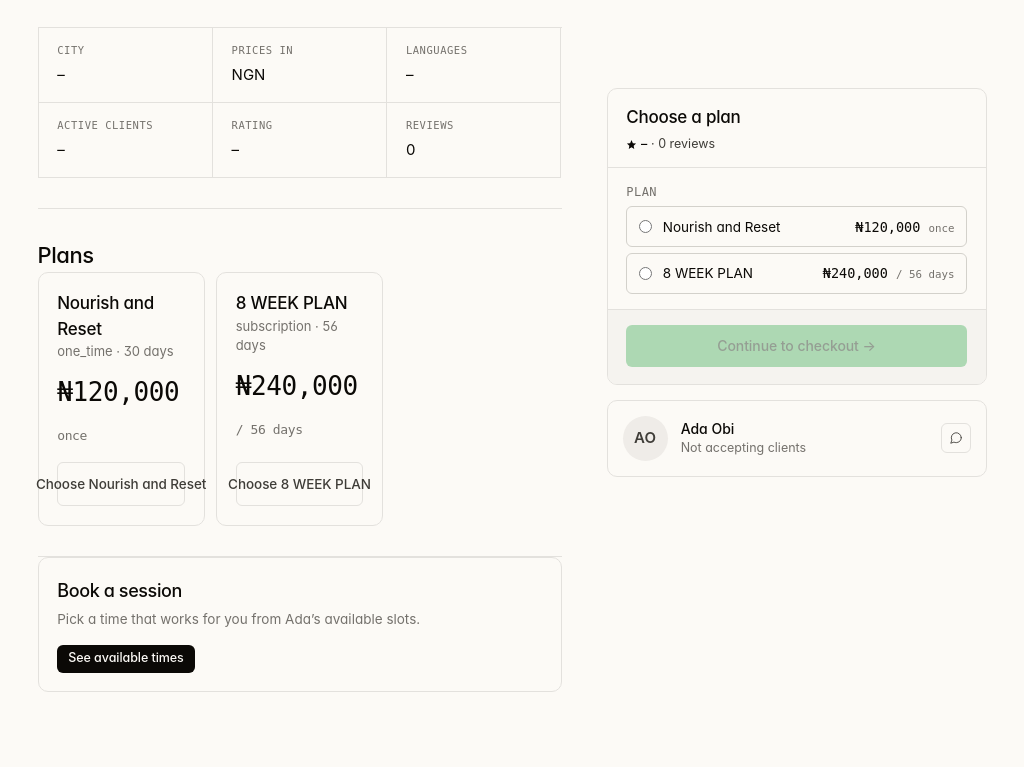
Test: listing booking card › choosing a plan from the Plans section selects it in the card
This screenshot has width=1024, height=767.
(page scrolled)
Click the button "Choose Nourish and Reset" at x=121, y=484, box x1=57 y1=462 x2=185 y2=506
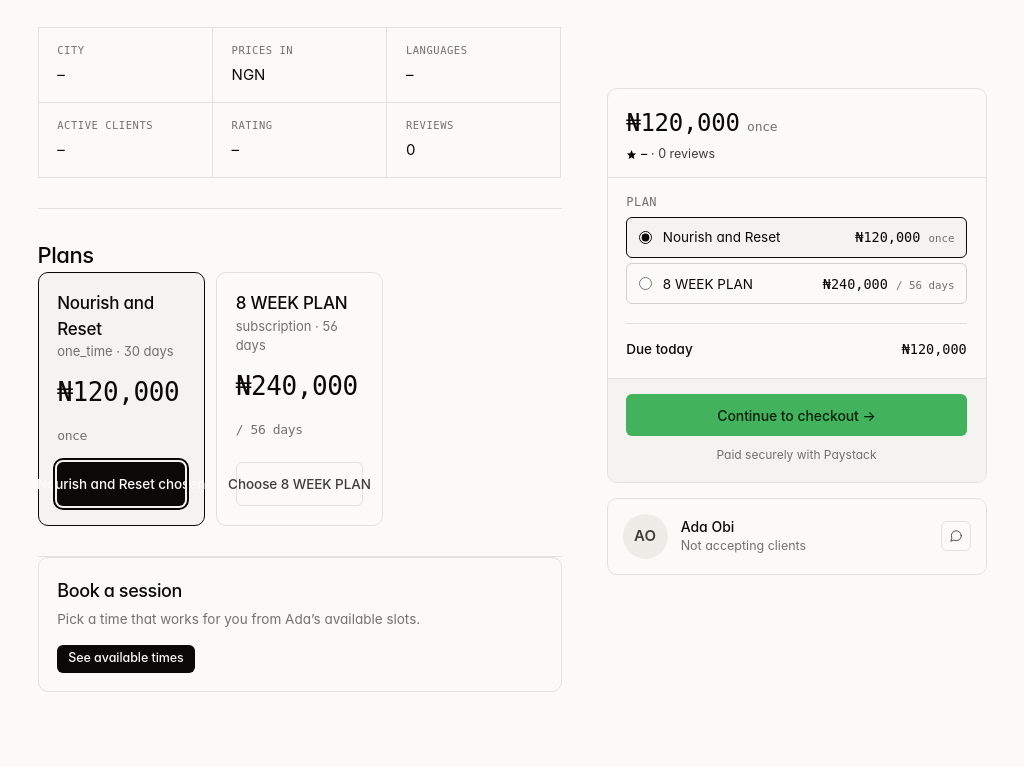
expect the radio button labelled "Nourish and Reset ₦120,000 once" is checked: met, box x1=638 y1=230 x2=652 y2=243
